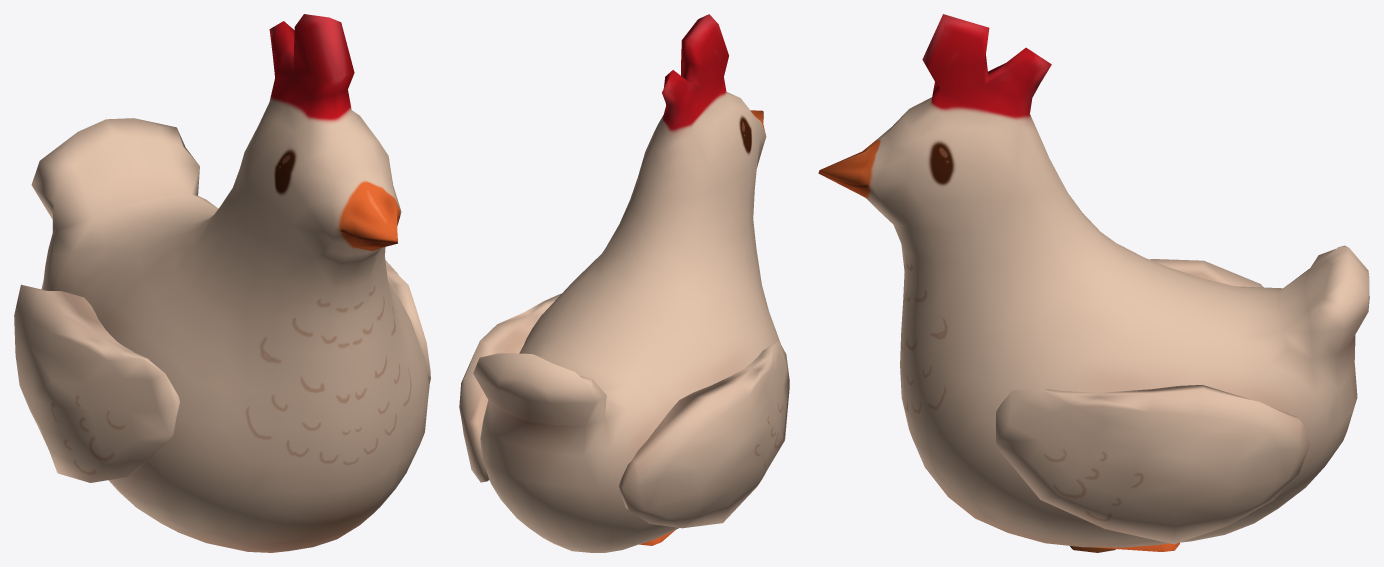
File: EXtras_Campo_Cone_Egg_Chicken_Geo.fbx
The picture shows the model from 3 angles, left to right: view 1: azimuth 30°, elevation 25°; view 2: azimuth 150°, elevation 25°; view 3: azimuth 270°, elevation 25°; orthographic projection. The views are drawn at different scales.
Parts seen in each view (by area): view 1: chicken; view 2: chicken; view 3: chicken.
Part boxes in pixels (<box>): chicken: <box>14,14,430,552</box>; chicken: <box>459,14,789,552</box>; chicken: <box>818,14,1369,547</box>.
Size of the model in its own units: 368 by 596 by 572.
Materials: 1 (1 with a texture image).
